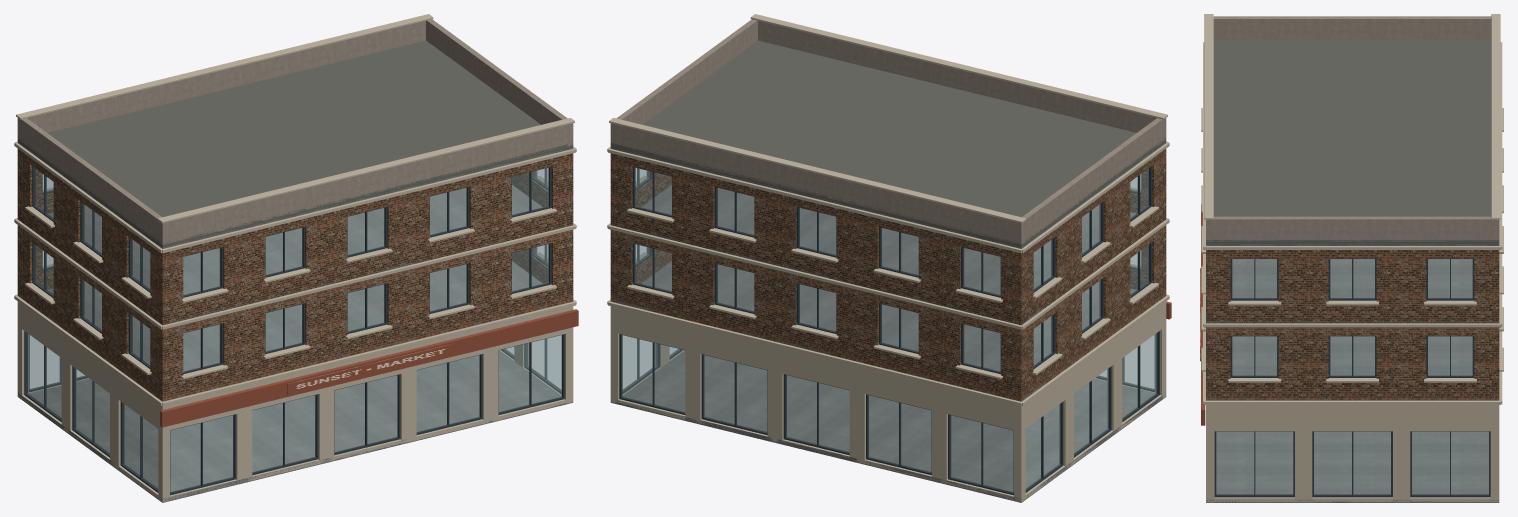
The model's file is sunset-market-v2-lod1.glb.
3 views of the same model, side by side, from view 1: azimuth 30°, elevation 25°; view 2: azimuth 150°, elevation 25°; view 3: azimuth 270°, elevation 25° (orthographic).
Visible parts, largest first — view 1: Brick (×8), Roof_membrane, Recessed_clear_glass (×8), Concrete, Limestone (×8), Plaster, Powder_coated_aluminium (×6), Terracotta_signage, Market_sign_ink; view 2: Brick (×8), Roof_membrane, Recessed_clear_glass (×8), Limestone (×8), Concrete, Plaster, Powder_coated_aluminium (×6); view 3: Roof_membrane, Brick (×6), Concrete, Limestone (×10), Recessed_clear_glass (×3), Plaster, Powder_coated_aluminium (×3), Terracotta_signage.
Boxes of the visible parts, x1,y1,x2,y2 form: Brick (×8): (17,148,573,401); Roof_membrane: (17,40,573,247); Recessed_clear_glass (×8): (27,168,561,492); Concrete: (17,141,573,502); Limestone (×8): (14,14,576,502); Plaster: (17,19,573,245); Powder_coated_aluminium (×6): (24,166,564,495); Terracotta_signage: (160,309,578,427); Market_sign_ink: (287,343,453,394); Brick (×8): (610,149,1166,401); Roof_membrane: (610,40,1166,247); Recessed_clear_glass (×8): (622,168,1156,492); Limestone (×8): (607,14,1169,501); Concrete: (610,141,1166,502); Plaster: (610,19,1166,245); Powder_coated_aluminium (×6): (619,166,1159,495); Roof_membrane: (1206,39,1499,244); Brick (×6): (1206,250,1499,400); Concrete: (1206,243,1499,502); Limestone (×10): (1201,14,1503,502); Recessed_clear_glass (×3): (1216,259,1488,494); Plaster: (1206,16,1499,241); Powder_coated_aluminium (×3): (1214,258,1490,497); Terracotta_signage: (1201,204,1205,425).
Bounding box in the file's own units: 18.34 × 11.81 × 11.39.
Materials: 9 (4 with a texture image).
